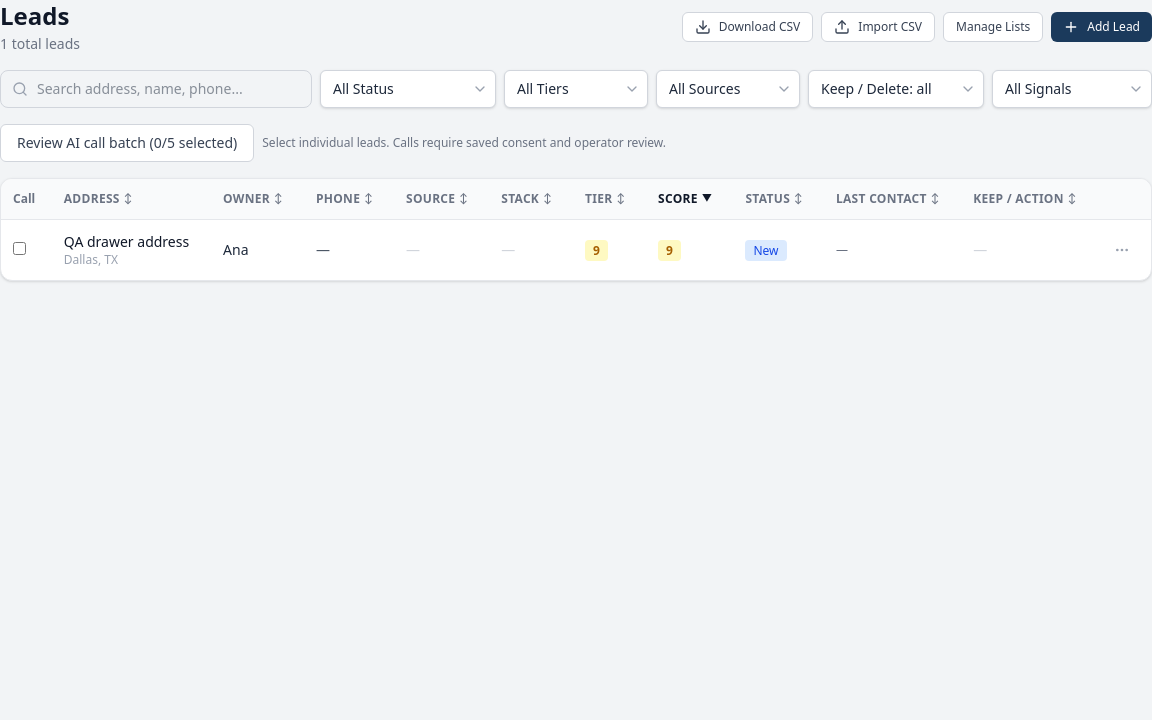
Test: saves a manually edited score without submitting the generated total
This screenshot has width=1152, height=720.
Click the text "QA drawer address".
click(126, 242)  # box [64,232,189,252]
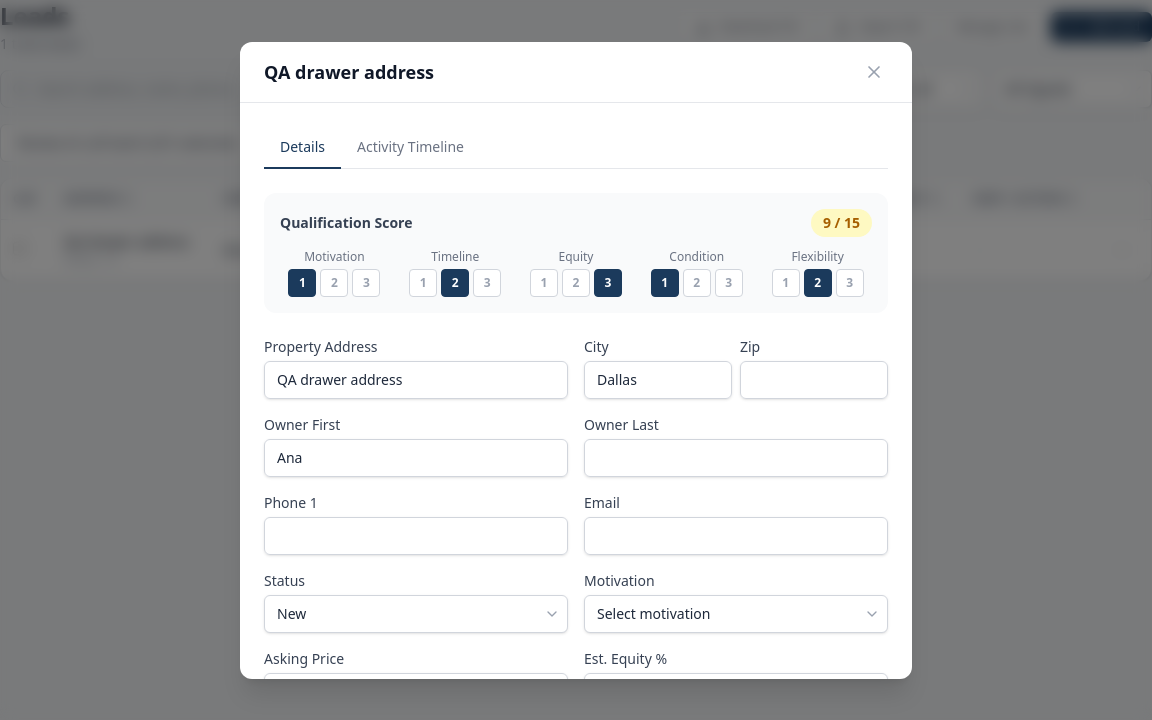
Click the button named "Motivation score 3".
click(366, 282)  # box [352,268,380,296]
(page scrolled)
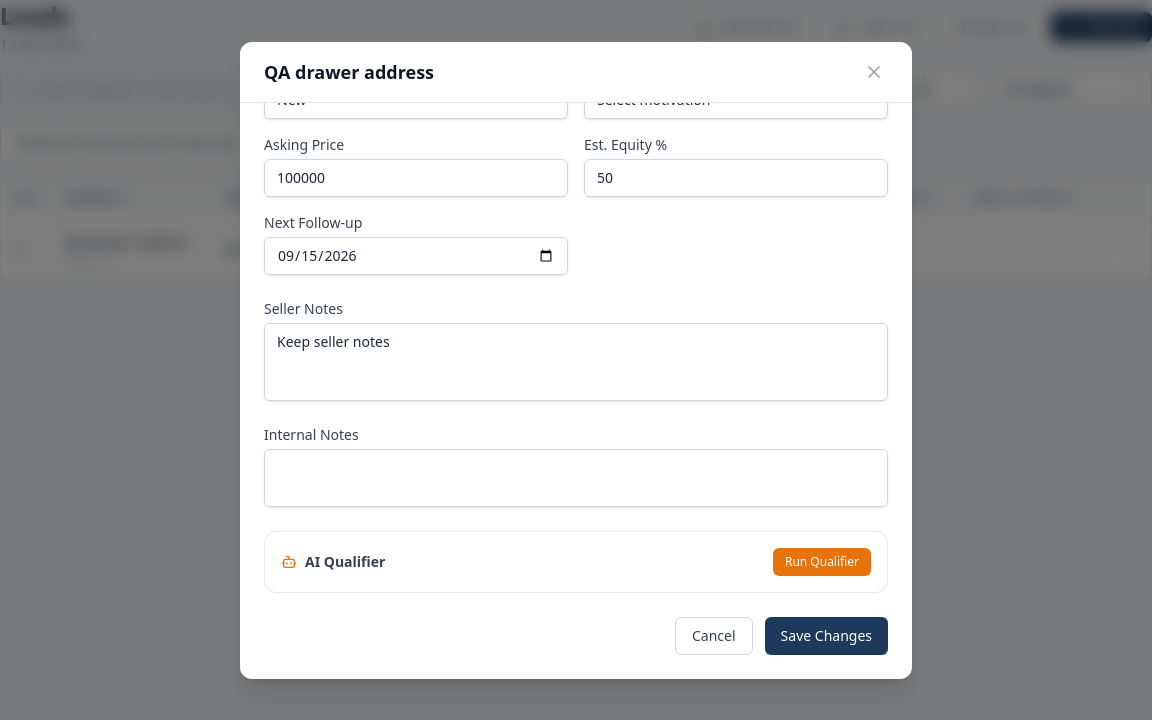
Click the button "Save Changes".
click(826, 636)  # box [765,616,888,654]
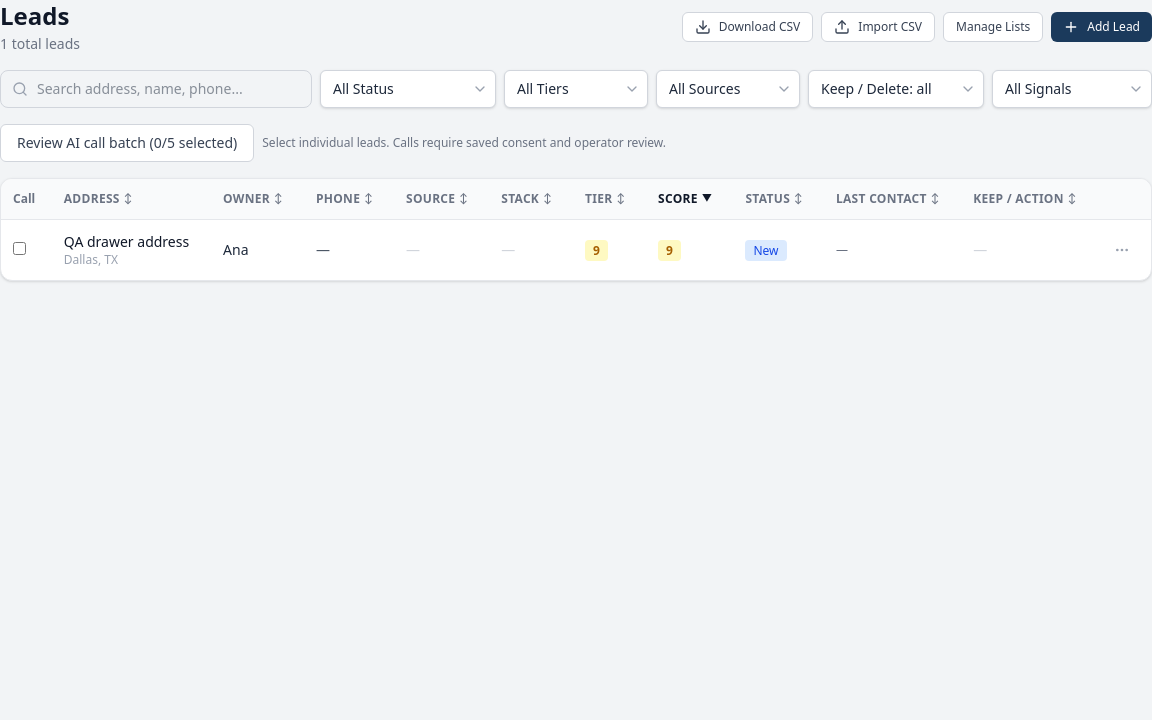
Check: the label labelled "Internal Notes" is gone
